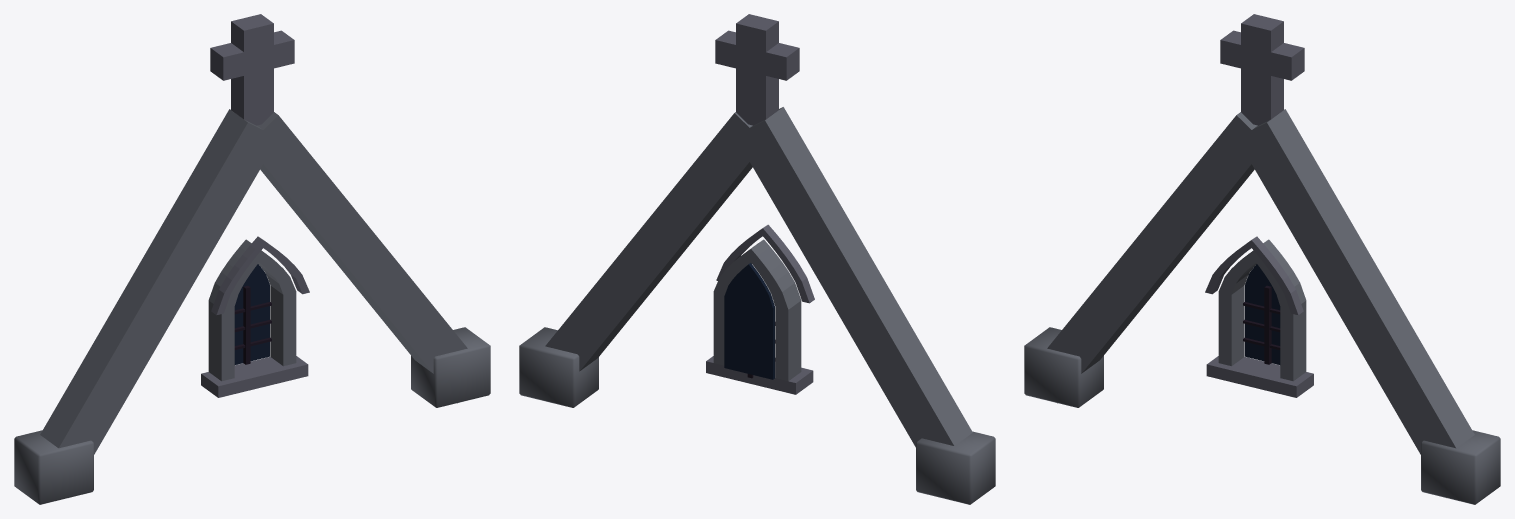
File: kit_church_gable_w2.glb
3 views of the same model, side by side, from view 1: azimuth 30°, elevation 25°; view 2: azimuth 150°, elevation 25°; view 3: azimuth 330°, elevation 25° (orthographic).
Parts seen in each view (by area): view 1: kit_church_gable_w2; view 2: kit_church_gable_w2; view 3: kit_church_gable_w2.
Boxes of the visible parts, x1,y1,x2,y2 form: kit_church_gable_w2: [14, 14, 490, 504]; kit_church_gable_w2: [519, 14, 995, 504]; kit_church_gable_w2: [1024, 14, 1500, 504].
Bounding box in the file's own units: 2.42 × 2.15 × 0.24.
